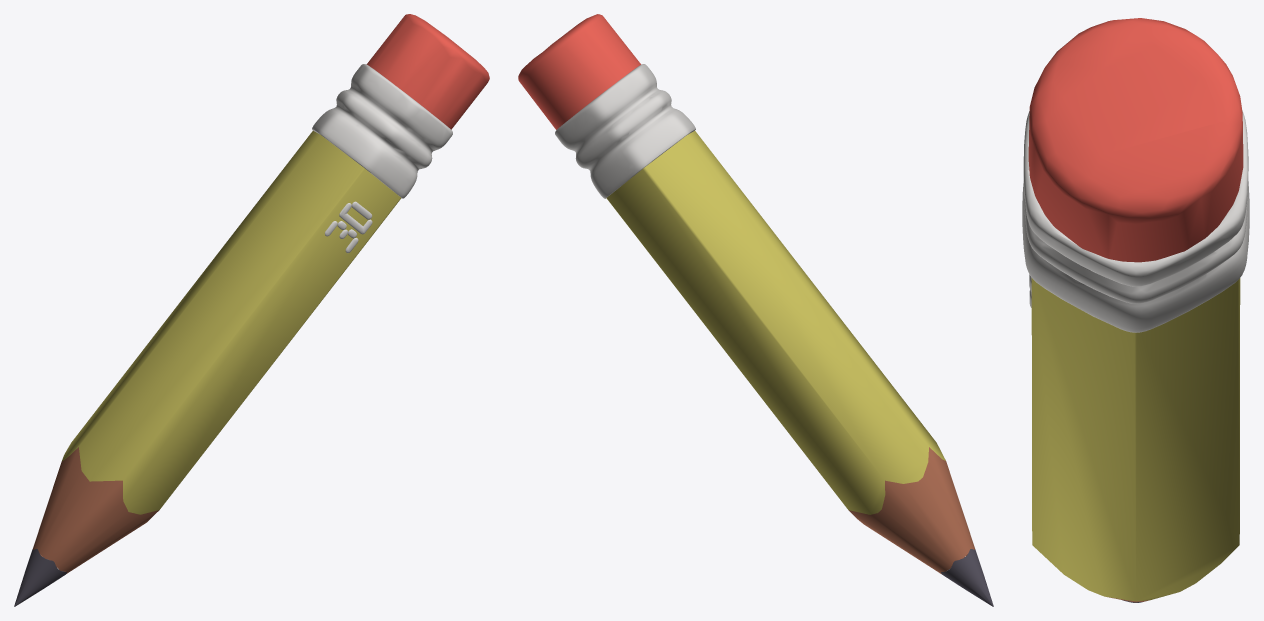
Rendered from pencil.glb.
3 renders of one model, left to right at view 1: azimuth 30°, elevation 25°; view 2: azimuth 150°, elevation 25°; view 3: azimuth 270°, elevation 25°, orthographic. The views are drawn at different scales.
Parts seen in each view (by area): view 1: Pencil; view 2: Pencil; view 3: Pencil.
Part boxes in pixels (x1,y1,x2,y2): Pencil: [14, 14, 489, 606]; Pencil: [518, 14, 993, 606]; Pencil: [1022, 18, 1249, 602].
Bounding box in the file's own units: 1.82 × 1.82 × 0.3838.
3 materials, 3 textured.
